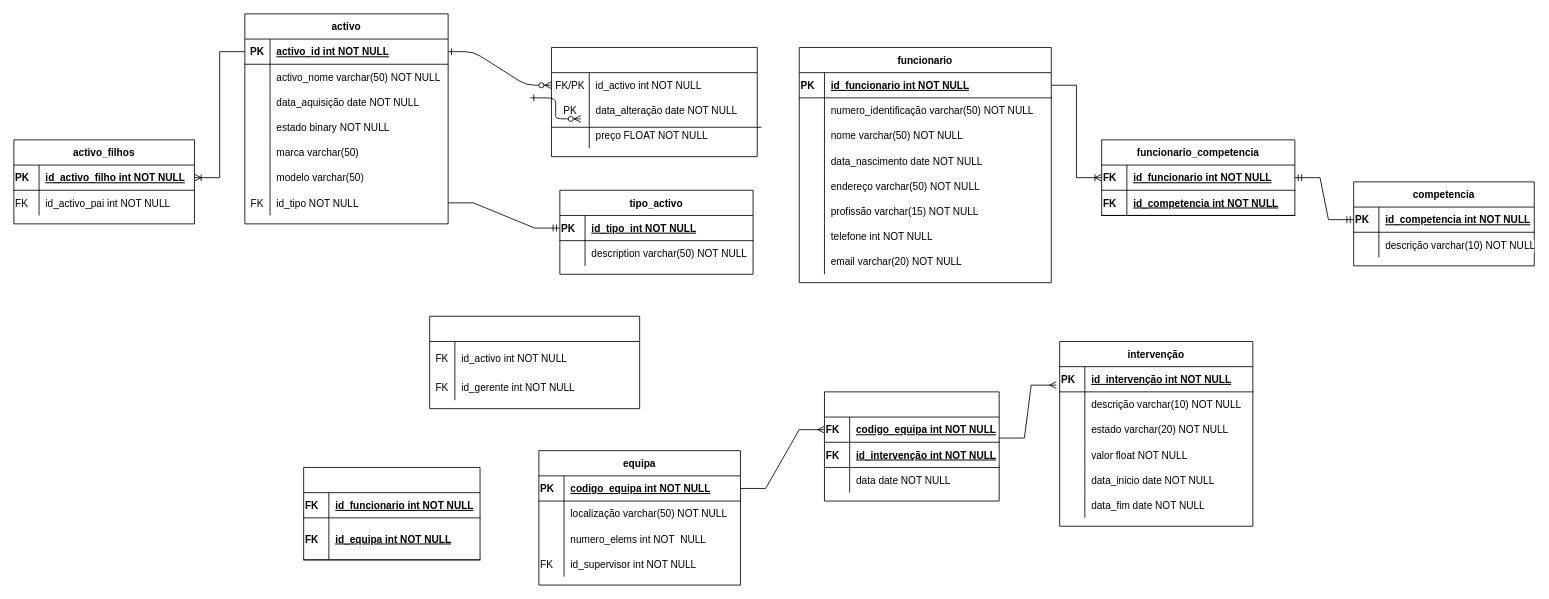
Image size: 1549x599. Some labels were removed from this diagram. Each missing label, with the box of its shape:
activo_gerente: (429, 315, 640, 409)
activo_preçocomercial: (551, 47, 757, 157)
funcionario_equipa: (303, 467, 480, 560)
intervenção_equipa: (824, 391, 999, 501)
